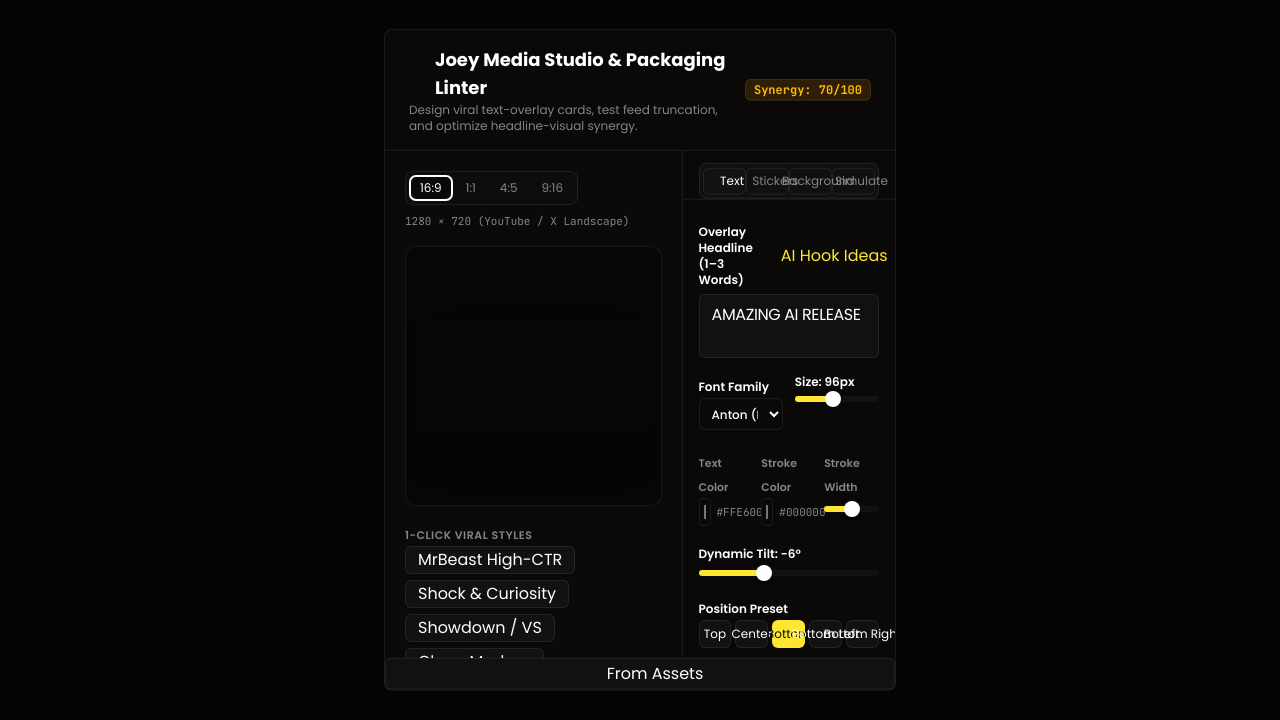
Test: MediaStudioDialog › switches aspect ratio and shows correct dimensions
The width and height of the screenshot is (1280, 720).
Click the button "1:1".
click(471, 188)  # box x1=456 y1=176 x2=486 y2=200
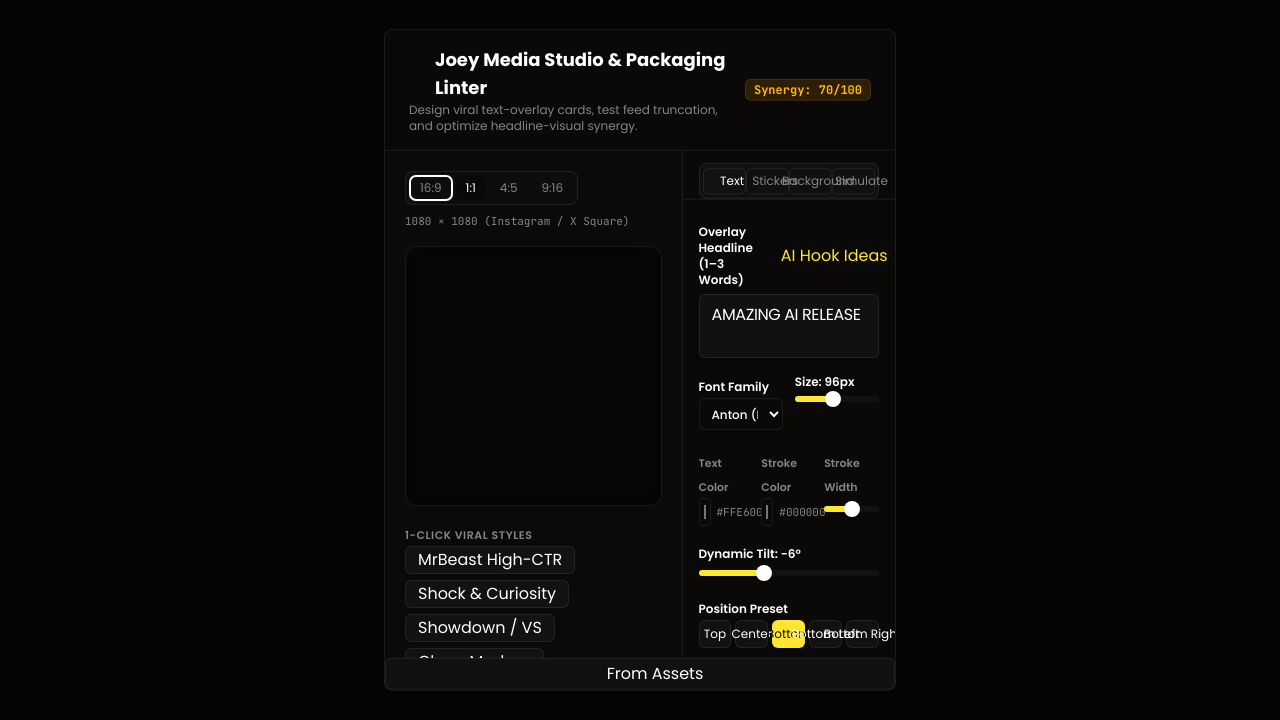
Now the text "1080 × 1080 (Instagram / X Square)" is shown, box x1=405 y1=213 x2=629 y2=229
